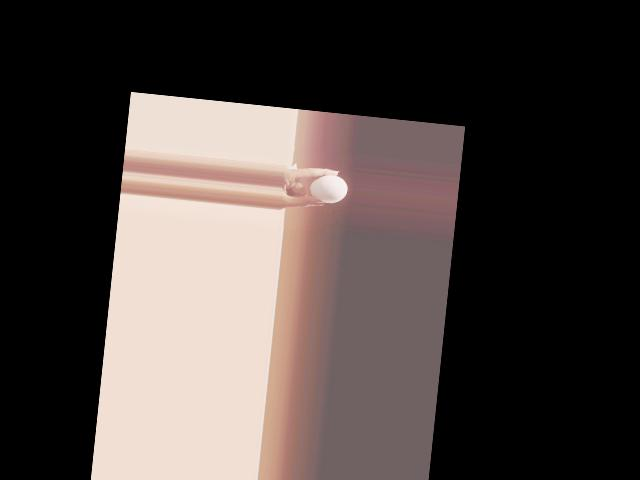egg: (308, 173, 348, 205)
